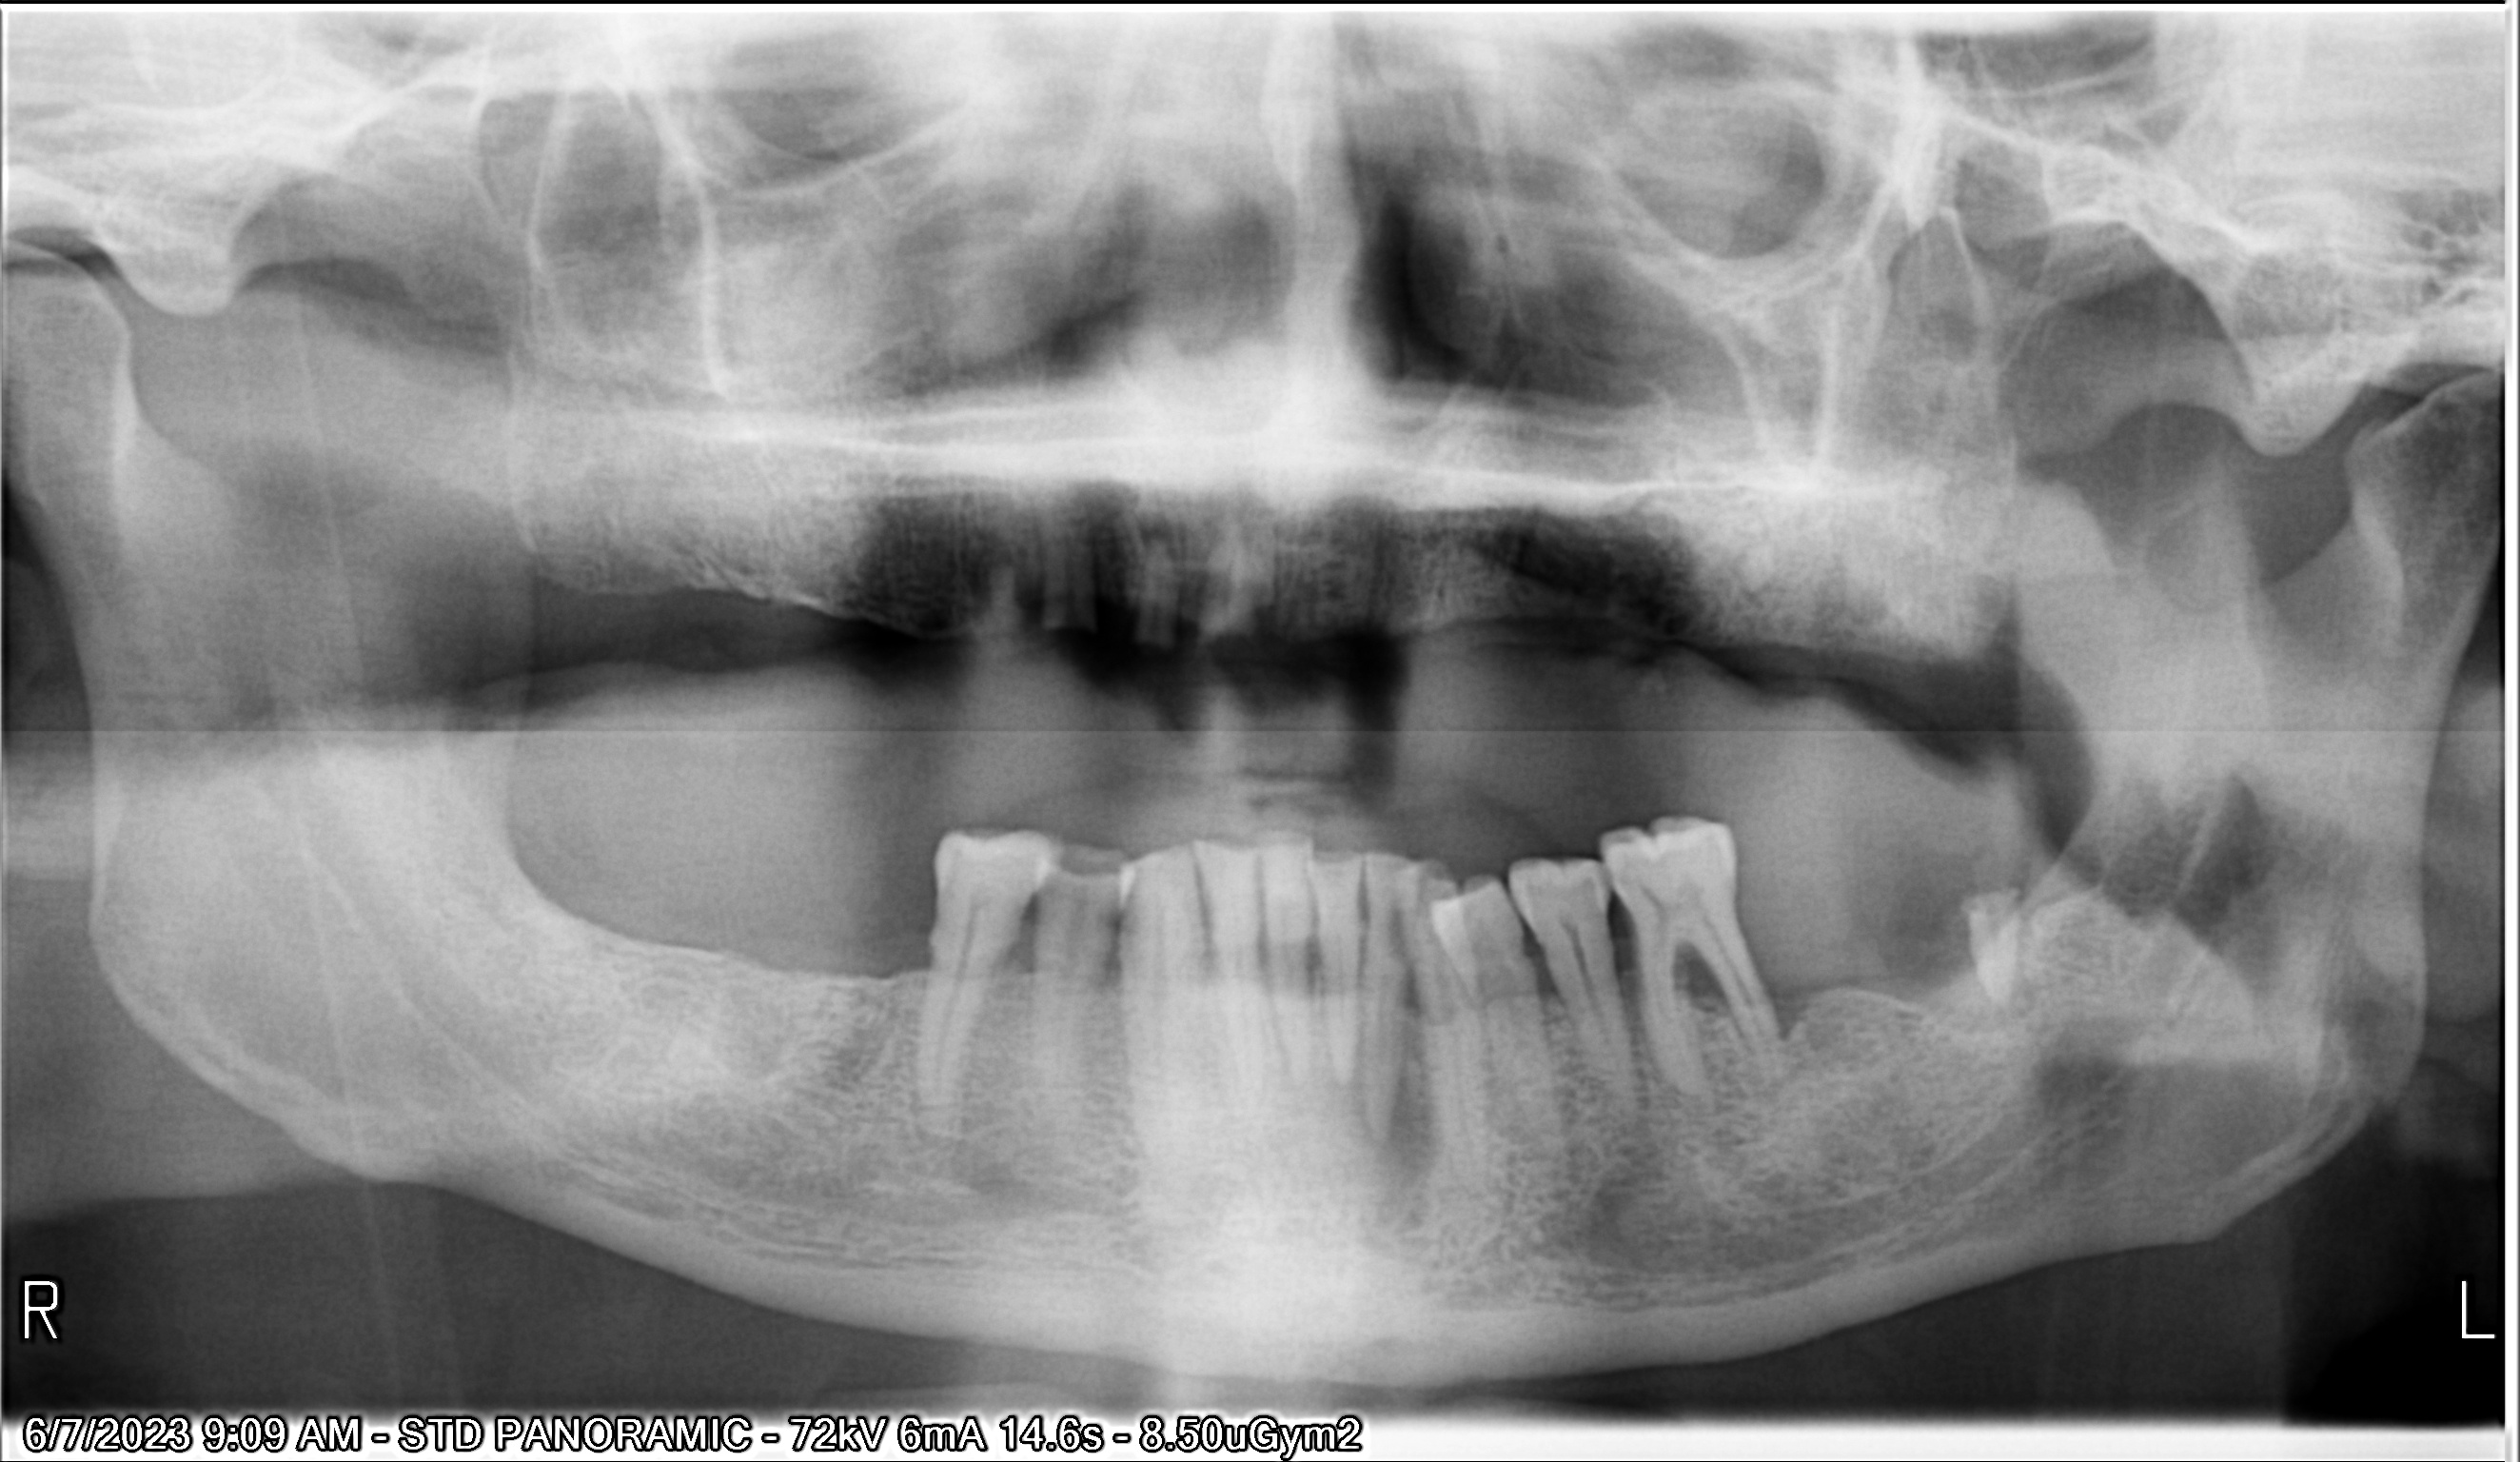API: (1330, 1060, 1425, 1182), (1960, 978, 2038, 1043)
BON: (1765, 964, 1805, 1030), (1093, 910, 1128, 983), (1002, 905, 1034, 980), (1194, 910, 1222, 983), (1307, 922, 1331, 992), (1530, 962, 1563, 1008), (1250, 915, 1272, 975), (1612, 936, 1634, 990), (1350, 926, 1370, 987), (1404, 978, 1427, 1018)
CAR: (1046, 844, 1121, 886), (1643, 828, 1676, 868), (1370, 841, 1411, 870), (1316, 839, 1352, 870)
FUR: (1672, 952, 1726, 1009)
ROT: (1960, 879, 2034, 992), (1210, 519, 1263, 649), (1034, 494, 1077, 653), (1143, 531, 1178, 646)
